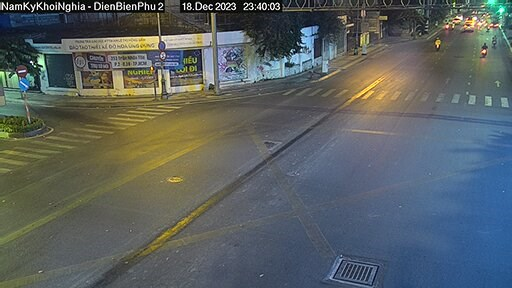motorbike: (477, 40, 489, 57), (430, 37, 443, 52)
